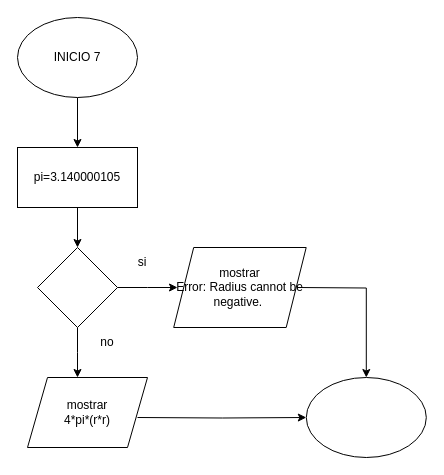
Image size: 444x475. Some labels were removed from this diagram. The box of each missing label's shape, as (x1, y1, x2, y2) in pixels:
FIN: (305, 376, 426, 458)
r<0: (36, 246, 118, 328)
